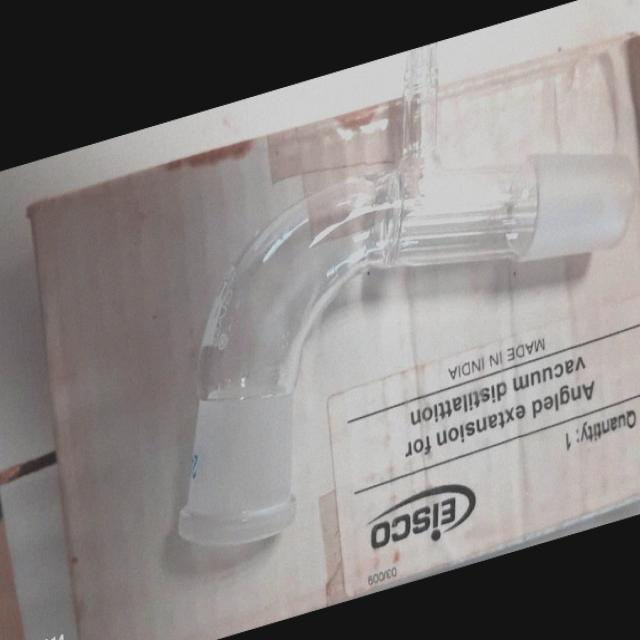Angled Extension for Vacuum Distillation: (143, 0, 640, 567)
